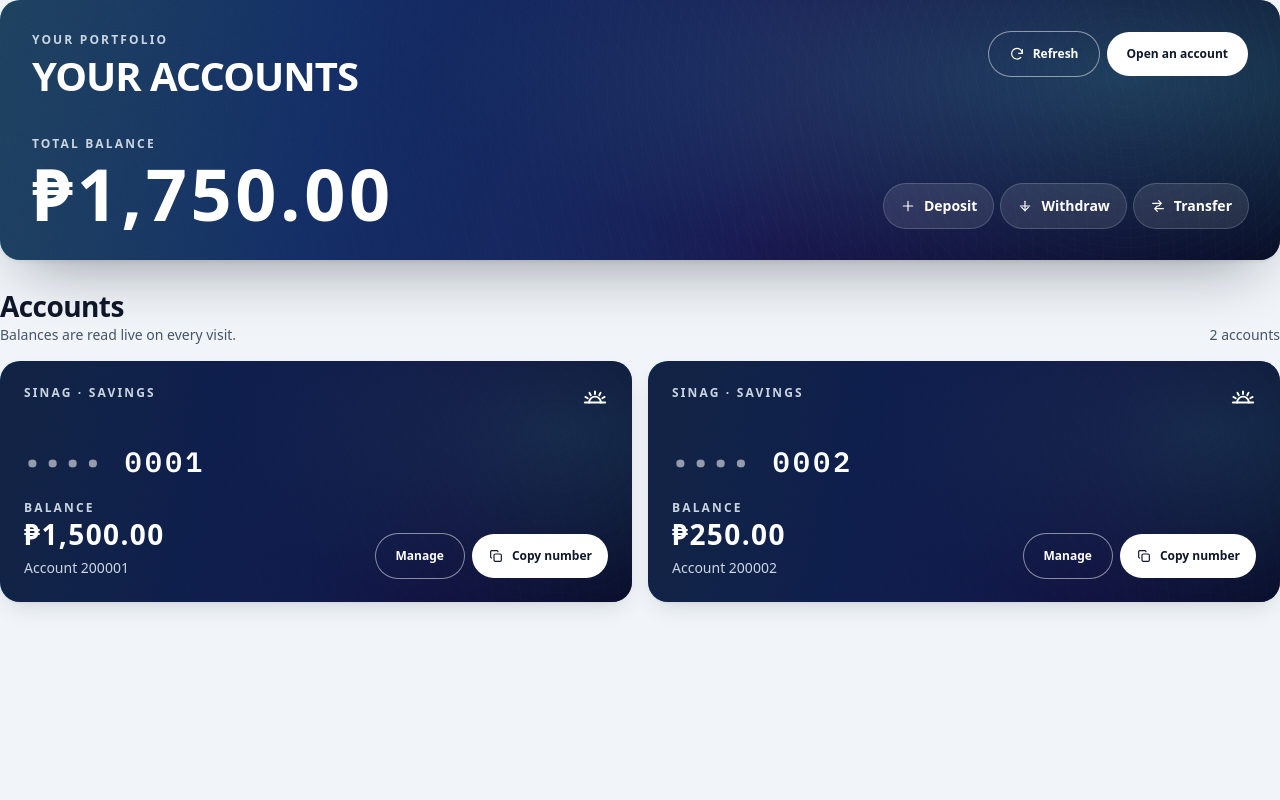
DashboardPage money actions › uses the account selected in the action dialog and shows success as a toast
Check: the text "Account 200001" is shown, box [24,558,129,577]
Click the button "Deposit" at (939, 206), box [884,184,993,228]
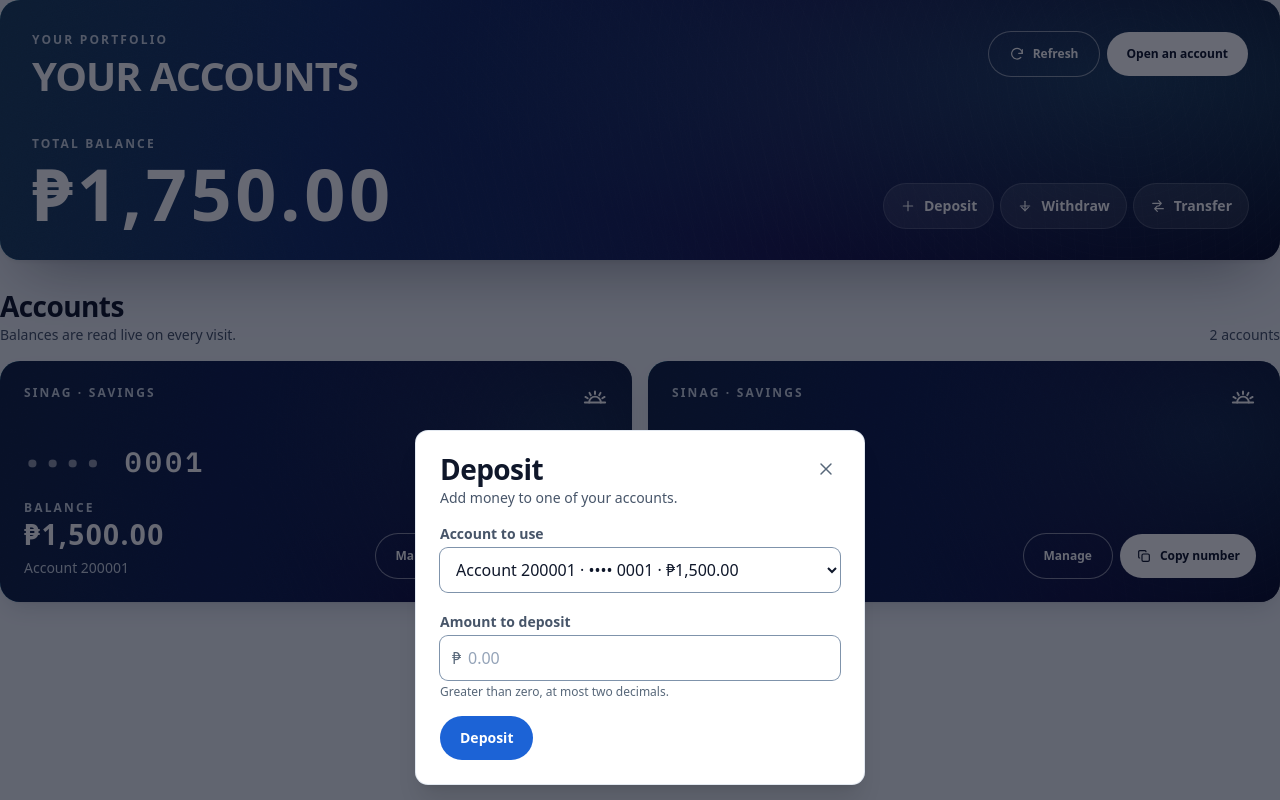
Select "Account 200002 · •••• 0002 · ₱250.00" in the dropdown labelled "Account to use" at (640, 570), box [440,548,840,592]
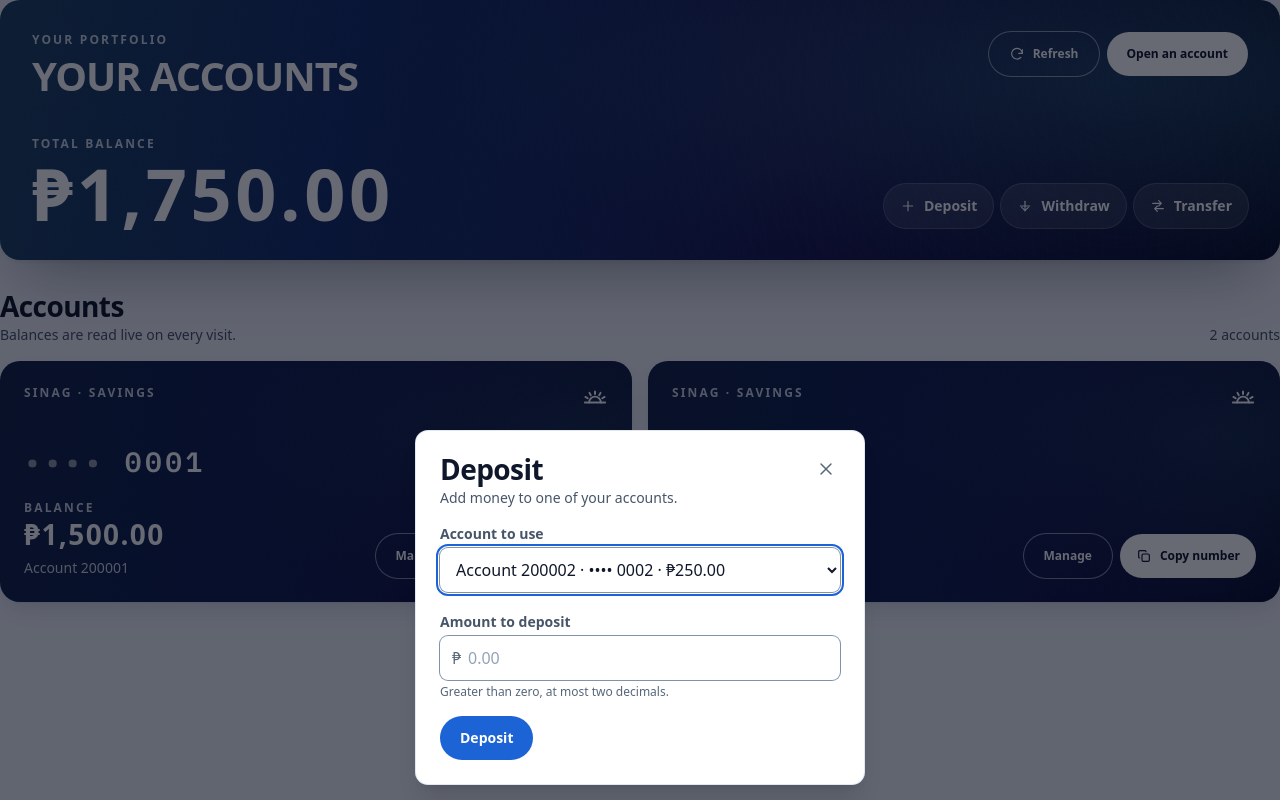
Type "25" into the field labelled "Amount to deposit" at (640, 658), box [440,636,840,680]
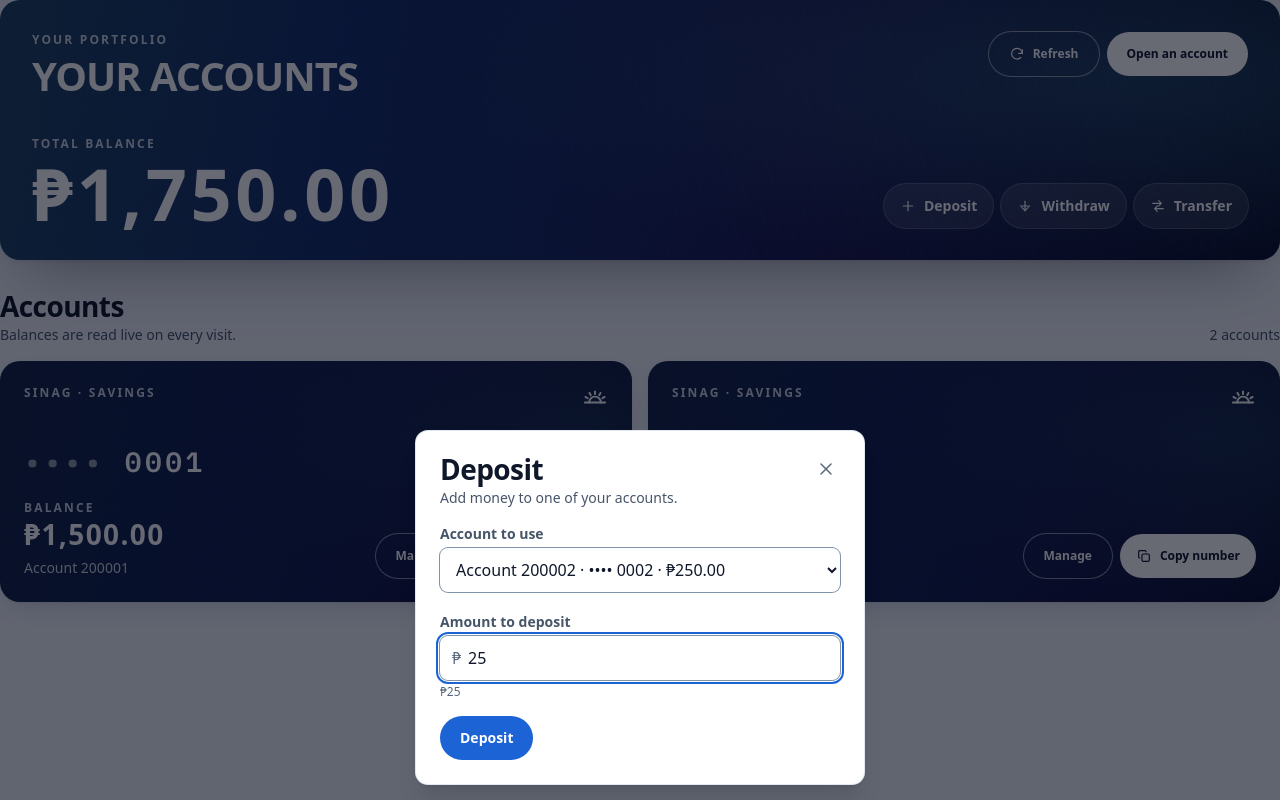
Click the button "Deposit" at (487, 738), box [440,716,534,760]
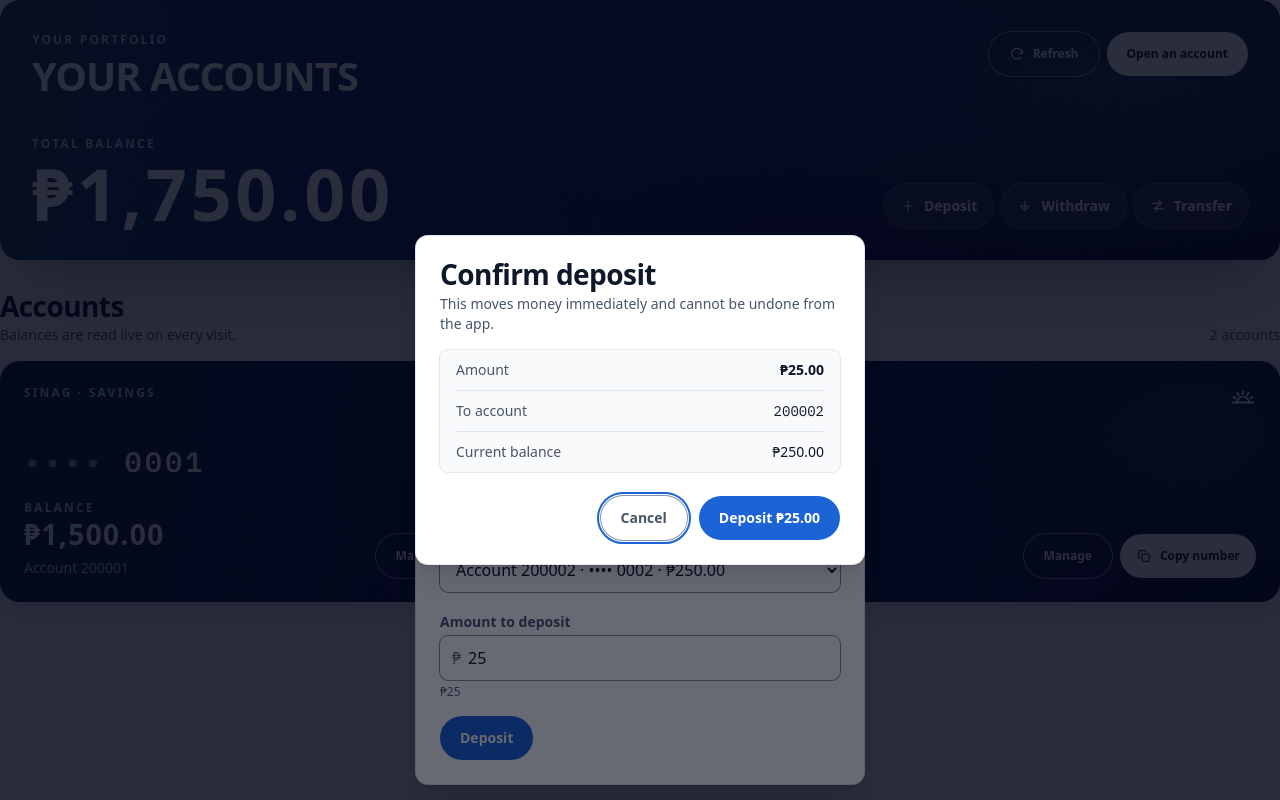
Check: the text "200002" is shown, box [774,401,824,421]
Click the button "Deposit ₱25.00" at (769, 518), box [699,496,840,540]
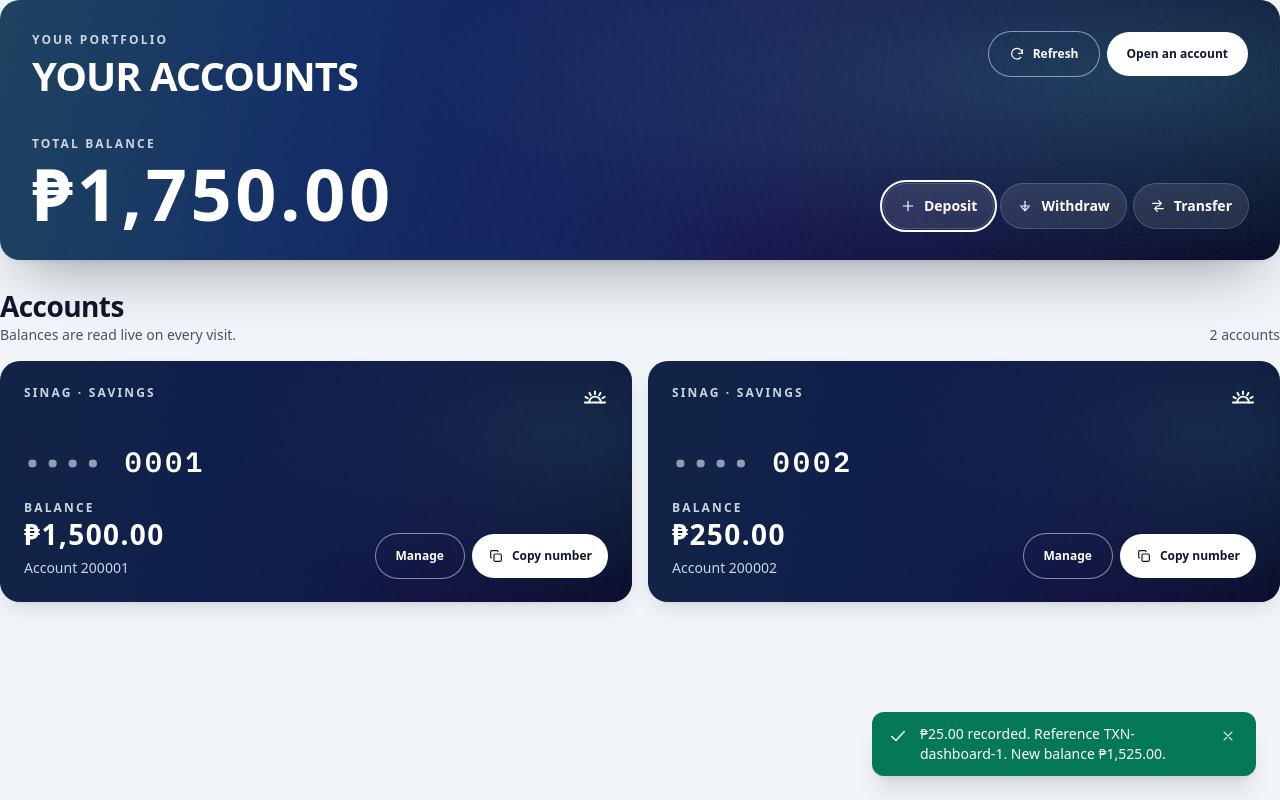
Check: the message shows "₱25.00 recorded. Reference TXN-dashboard-1.", box [920,724,1166,763]
Check: the dialog is gone
